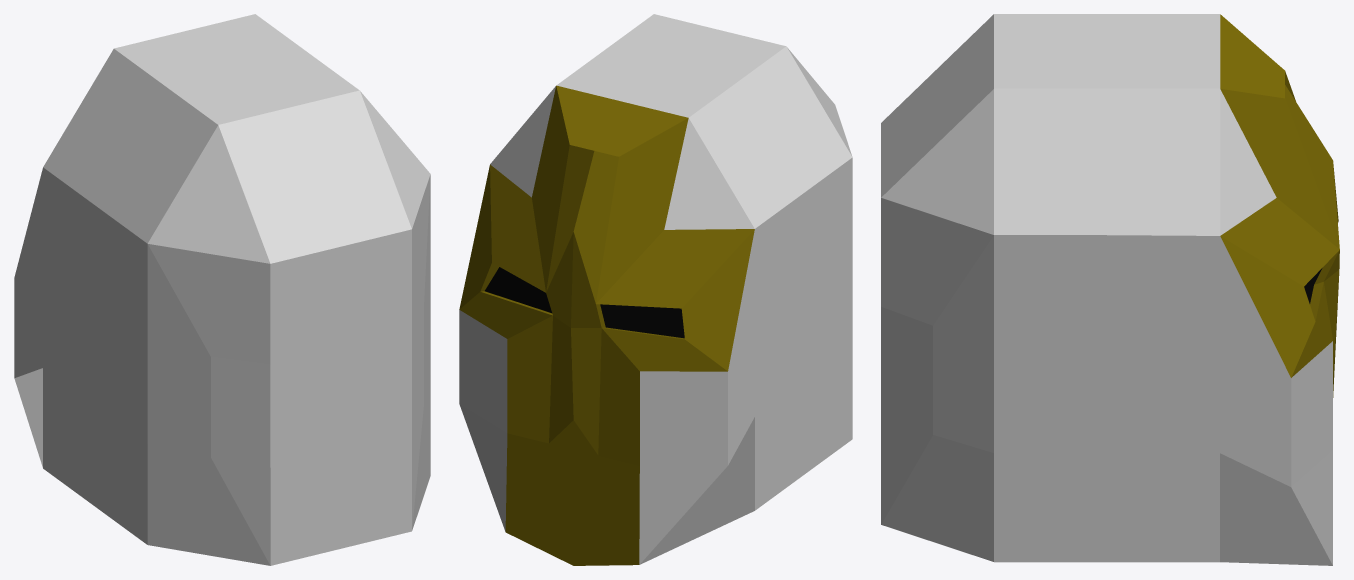
The model's file is imperial.glb.
3 renders of one model, left to right at view 1: azimuth 30°, elevation 25°; view 2: azimuth 150°, elevation 25°; view 3: azimuth 270°, elevation 25°, orthographic. The views are drawn at different scales.
Visible parts, largest first — view 1: GreatHelm; view 2: GreatHelm; view 3: GreatHelm.
Boxes of the visible parts, x1=… form: GreatHelm: x1=14, y1=14, x2=430, y2=565; GreatHelm: x1=459, y1=14, x2=852, y2=565; GreatHelm: x1=881, y1=14, x2=1339, y2=565.
Bounding box in the file's own units: 0.2064 × 0.3191 × 0.2677.
